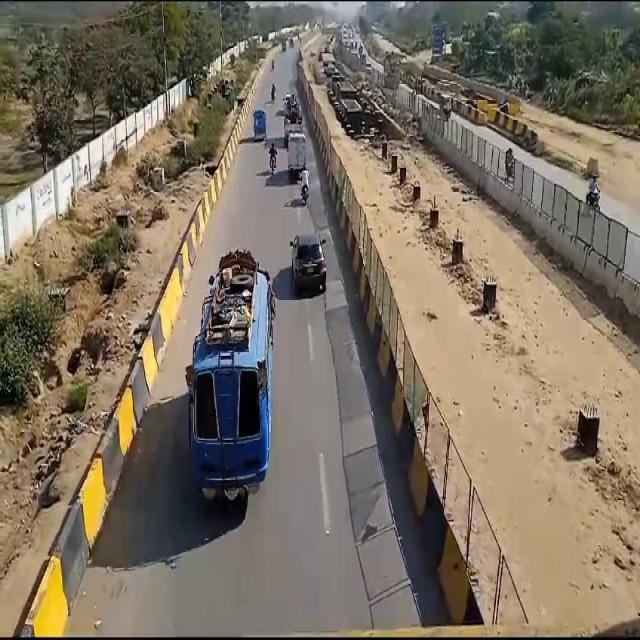car: (292, 232, 329, 296)
motorbike: (297, 160, 311, 205), (268, 139, 278, 175)
truck: (181, 245, 276, 500)
